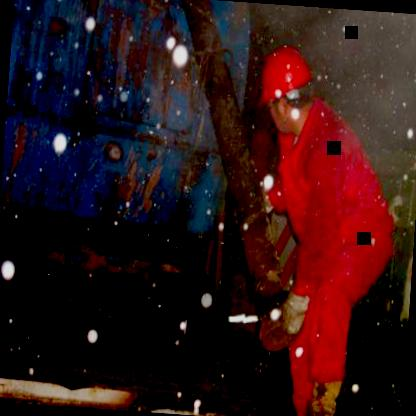helmet: (260, 47, 322, 136)
